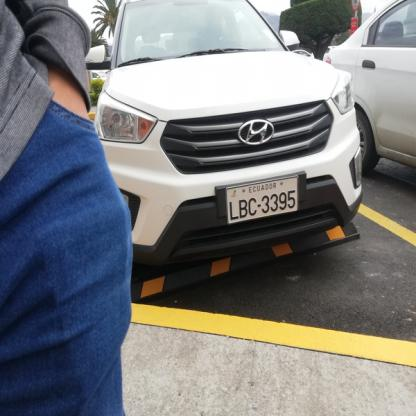Placa: (224, 179, 304, 228)
